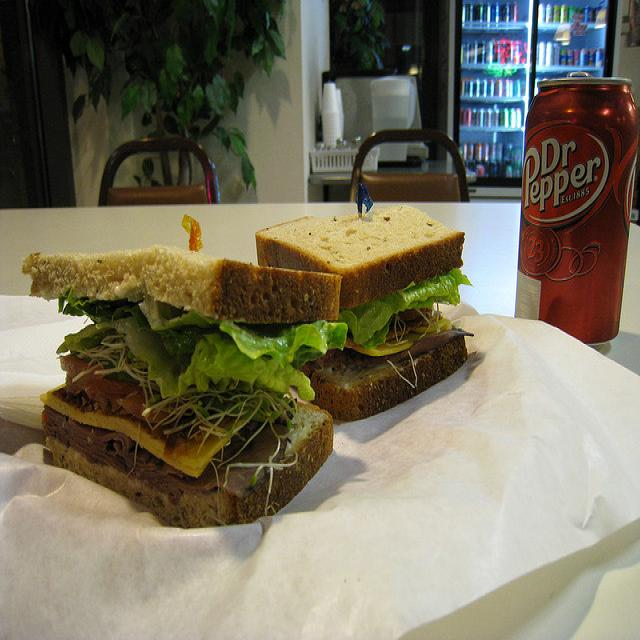chair: (95, 134, 225, 213), (349, 129, 471, 200)
dining table: (4, 307, 640, 630), (0, 199, 638, 391)
